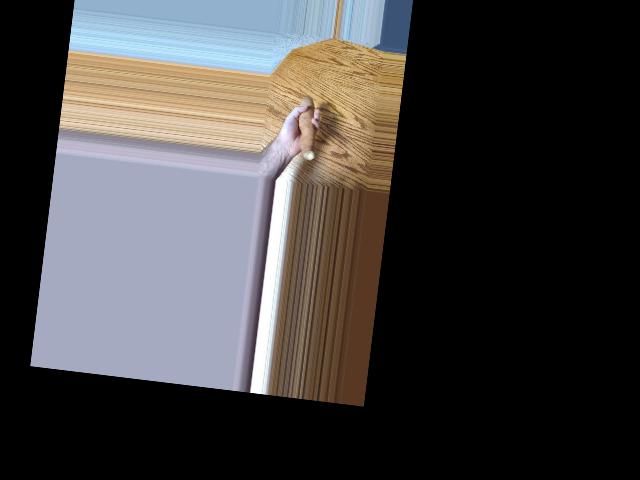sweet_potato: (290, 89, 320, 162)
